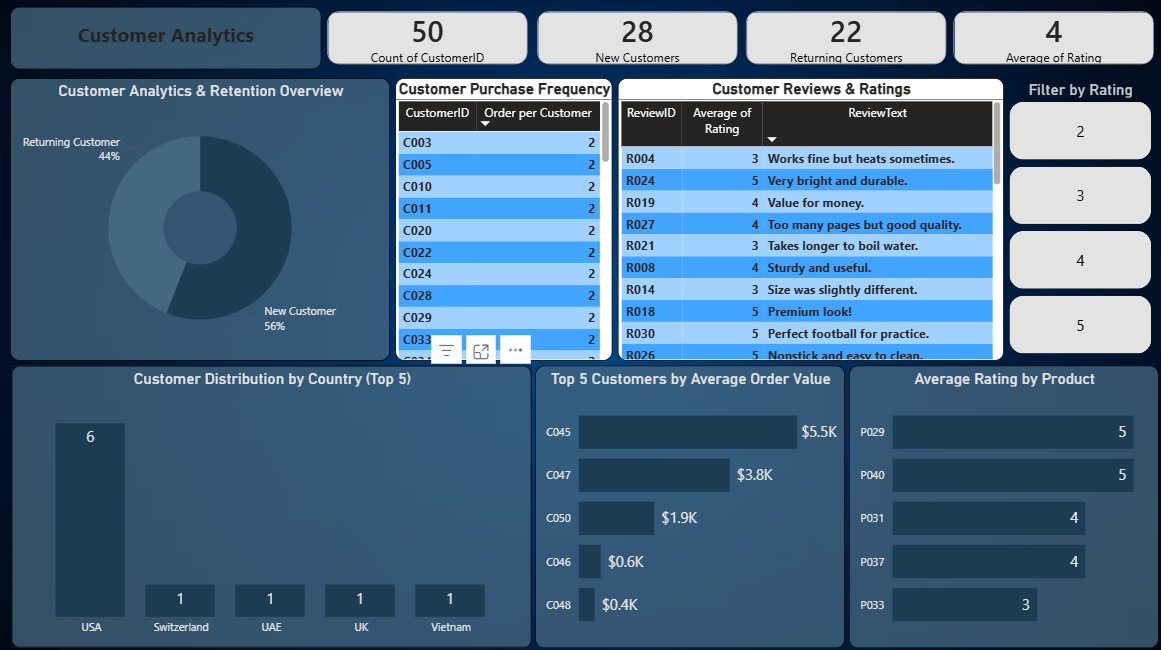

Layout of this report page (visuals, bound fields, positions):
{"tool":"powerbi","page":{"name":"Customer Analytics","canvas":[1280,720],"ordinal":2},"visuals":[{"type":"textbox","box":[12.3,9.6,341.7,68.6],"z":0},{"type":"donutChart","title":"Customer Analytics & Retention Overview","fields":{"Category":["Customer.Customer Type"],"Y":["CountNonNull(Customer.CustomerID)"]},"box":[12.3,87.8,417.2,310.1],"z":1000},{"type":"tableEx","title":"Customer Purchase Frequency","fields":{"Values":["Customer.CustomerID","Customer.Orders per Customers"]},"box":[435,87.8,238.8,310],"z":2000},{"type":"barChart","title":"Top 5 Customers by Average Order Value","fields":{"Category":["Customer.CustomerID"],"Y":["Avg(Order.TotalAmount)"]},"box":[588.7,403.4,340,310.1],"z":3000},{"type":"clusteredColumnChart","title":"Customer Distribution by Country (Top 5)","fields":{"Category":["Customer.Country"],"Y":["CountNonNull(Customer.CustomerID)"]},"box":[13.7,403.4,570.8,310.1],"z":4000},{"type":"cardVisual","fields":{"Data":["Count(Customer.CustomerID)"]},"box":[356,9.6,230.5,68.6],"z":5000},{"type":"cardVisual","fields":{"Data":["Customer.Returning Customers"]},"box":[815.1,9.6,230.5,68.6],"z":6000},{"type":"cardVisual","fields":{"Data":["Customer.New Customers"]},"box":[586,9.6,230.5,68.6],"z":7000},{"type":"barChart","title":"Average Rating by Product","fields":{"Y":["Avg(customer review.Rating)"],"Category":["customer review.ProductID"]},"box":[933,403.4,340.3,310.1],"z":8000},{"type":"tableEx","title":"Customer Reviews & Ratings","fields":{"Values":["customer review.ReviewID","Avg(customer review.Rating)","customer review.ReviewText"]},"box":[679.2,87.8,424,310.1],"z":9000},{"type":"cardVisual","fields":{"Data":["Avg(customer review.Rating)"]},"box":[1042.9,9.6,230.5,68.6],"z":10000},{"type":"advancedSlicerVisual","title":"Filter by Rating","fields":{"Values":["customer review.Rating"]},"box":[1104.6,87.8,168.8,310.1],"z":11000}]}

Visuals, with their boxes in screenshot pixels (x1, y1, x2, y2), scaled from the page's 1280x720 canvas onto the 1161x650 screenshot:
textbox: (left=11, top=9, right=321, bottom=71)
"Customer Analytics & Retention Overview" donutChart: (left=11, top=79, right=390, bottom=359)
"Customer Purchase Frequency" tableEx: (left=395, top=79, right=611, bottom=359)
"Top 5 Customers by Average Order Value" barChart: (left=534, top=364, right=842, bottom=644)
"Customer Distribution by Country (Top 5)" clusteredColumnChart: (left=12, top=364, right=530, bottom=644)
cardVisual - Count(Customer.CustomerID): (left=323, top=9, right=532, bottom=71)
cardVisual - Customer.Returning Customers: (left=739, top=9, right=948, bottom=71)
cardVisual - Customer.New Customers: (left=532, top=9, right=741, bottom=71)
"Average Rating by Product" barChart: (left=846, top=364, right=1155, bottom=644)
"Customer Reviews & Ratings" tableEx: (left=616, top=79, right=1001, bottom=359)
cardVisual - Avg(customer review.Rating): (left=946, top=9, right=1155, bottom=71)
"Filter by Rating" advancedSlicerVisual: (left=1002, top=79, right=1155, bottom=359)
